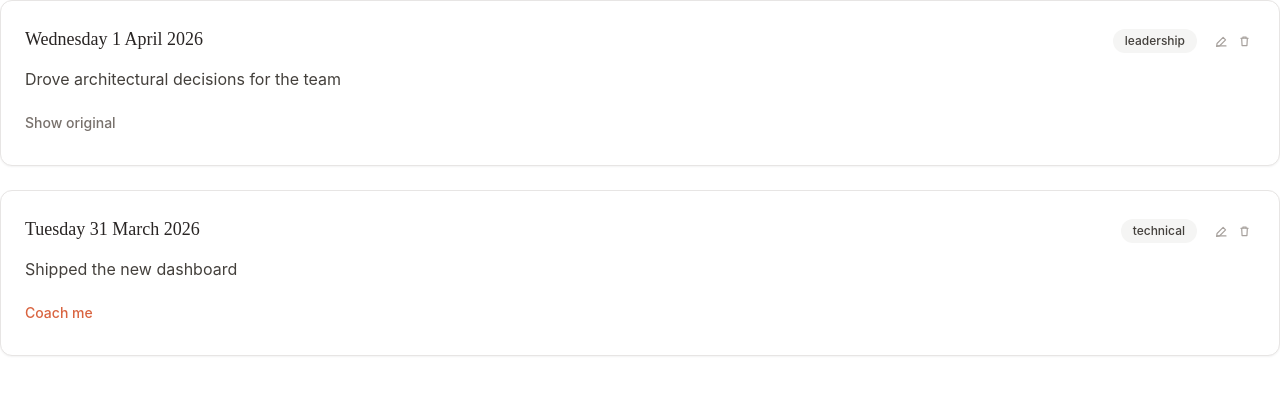
it: EntryList — delete flow › shows inline confirm when Delete is clicked
Click the button named "Delete entry" next to "leadership".
click(1244, 41)  # box [1234,30,1255,52]
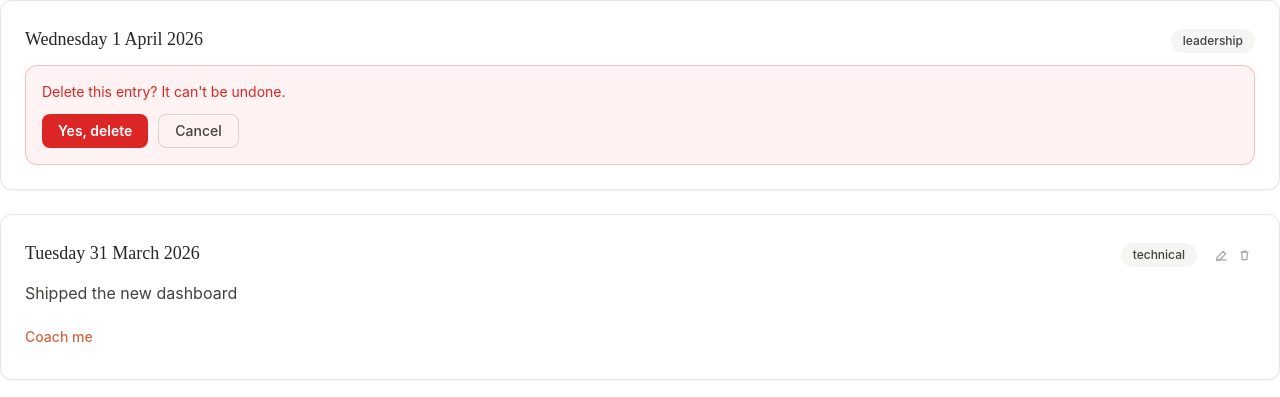
Check: the text "Delete this entry? It can't be undone." is shown, box [42,83,286,100]
